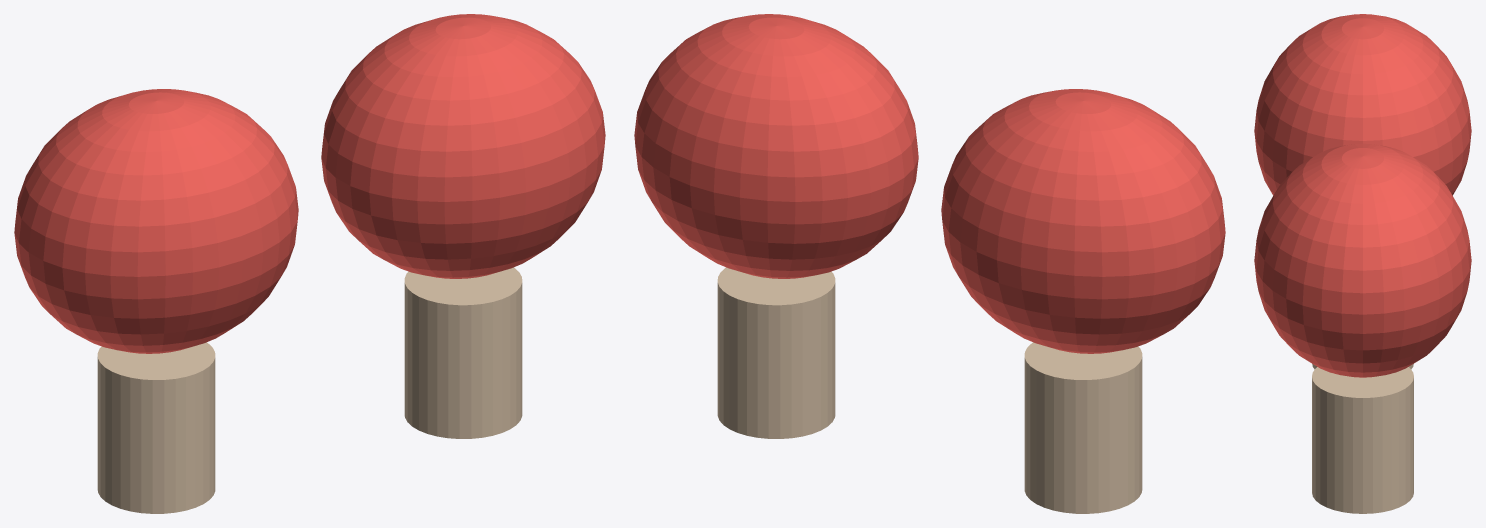
File: boxing_gloves.glb
3 views of the same model, side by side, from view 1: azimuth 30°, elevation 25°; view 2: azimuth 150°, elevation 25°; view 3: azimuth 270°, elevation 25° (orthographic). The views are drawn at different scales.
Visible parts, largest first — view 1: Glove1, Glove2, Wrist1, Wrist2; view 2: Glove1, Glove2, Wrist1, Wrist2; view 3: Glove2, Glove1, Wrist2.
Boxes of the visible parts, x1,y1,x2,y2 form: Glove1: (14, 89, 298, 353); Glove2: (321, 14, 605, 278); Wrist1: (97, 342, 215, 513); Wrist2: (404, 267, 522, 438); Glove1: (941, 89, 1225, 353); Glove2: (634, 14, 918, 278); Wrist1: (1024, 342, 1142, 513); Wrist2: (717, 267, 835, 438); Glove2: (1254, 143, 1471, 377); Glove1: (1254, 14, 1471, 195); Wrist2: (1312, 367, 1413, 513).
Bounding box in the file's own units: 0.44 × 0.29 × 0.17.
